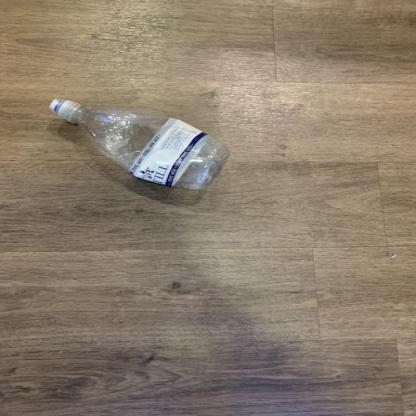trash: (44, 100, 236, 197)
